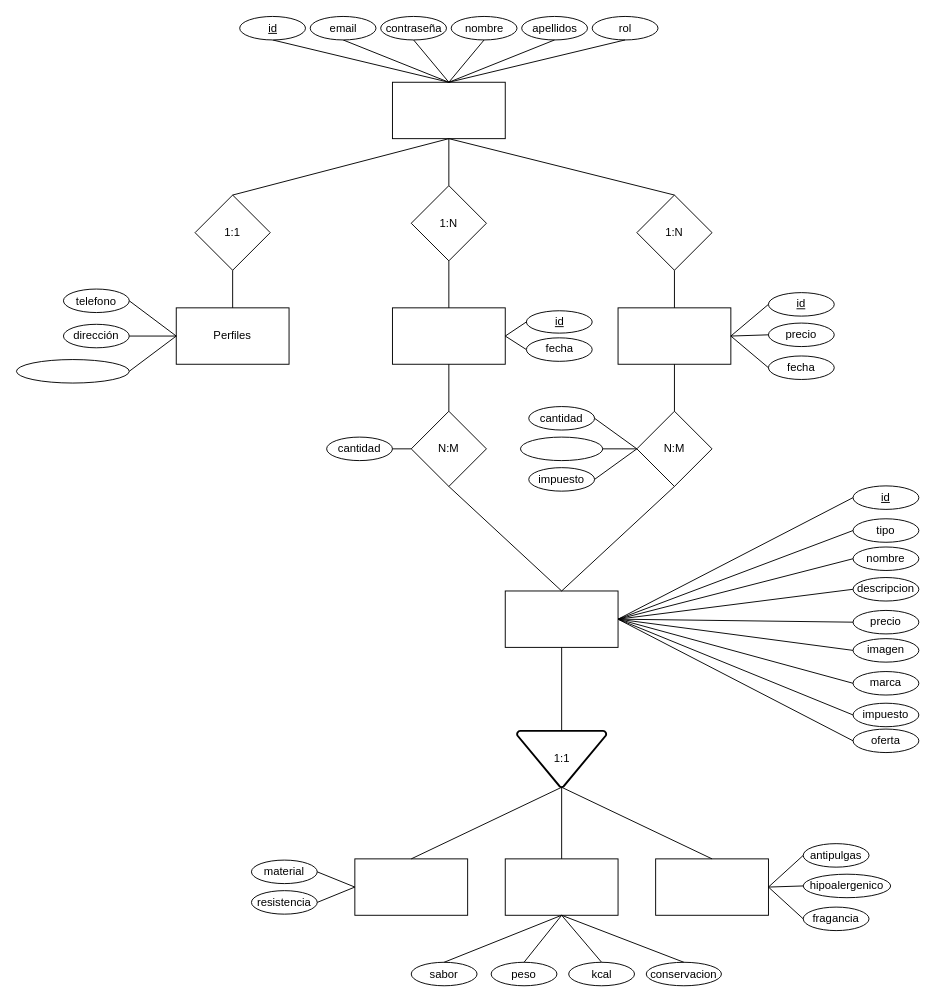
Image size: 935x1003. Some labels were removed from this diagram. The shapes that lost their labels are listed below. From the top down, each one's centre as x and y in pixels, then its label:
pixel 448 110: Usuarios
pixel 448 335: Cestas
pixel 674 335: Pedidos
pixel 72 371: fecha de nacimiento
pixel 561 448: precio de venta
pixel 561 618: Productos
pixel 411 886: Juguetes
pixel 561 886: Piensos
pixel 711 886: Higiene
